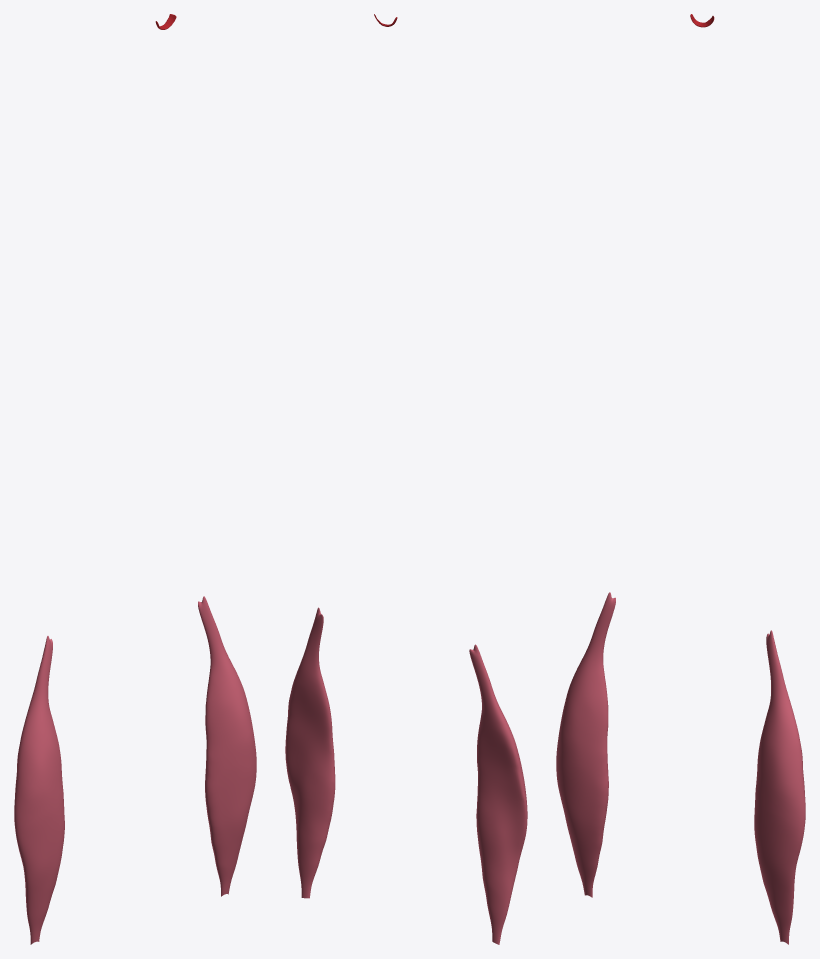
File: female-a-muskel-0.glb
3 renders of one model, left to right at view 1: azimuth 30°, elevation 25°; view 2: azimuth 150°, elevation 25°; view 3: azimuth 330°, elevation 25°, orthographic. The views are drawn at different scales.
Parts seen in each view (by area): view 1: VH_F_rectus_femoris_L, VH_F_rectus_femoris_R; view 2: VH_F_rectus_femoris_R, VH_F_rectus_femoris_L; view 3: VH_F_rectus_femoris_R, VH_F_rectus_femoris_L.
Boxes of the visible parts, x1,y1,x2,y2 form: VH_F_rectus_femoris_L: (198,596,256,896); VH_F_rectus_femoris_R: (14,636,64,944); VH_F_rectus_femoris_R: (469,644,527,944); VH_F_rectus_femoris_L: (285,607,335,898); VH_F_rectus_femoris_R: (556,592,615,897); VH_F_rectus_femoris_L: (754,630,805,944).
Bounding box in the file's own units: 0.3004 × 1.07 × 0.0407.
